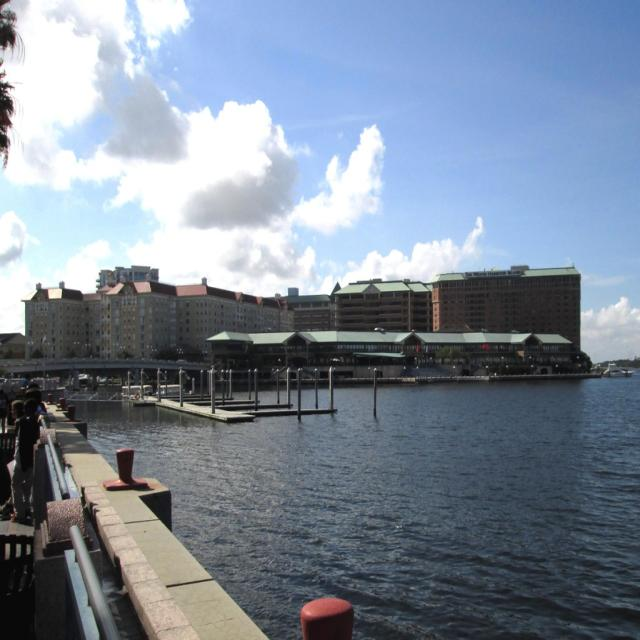Boat: (154, 383, 196, 399), (121, 383, 152, 398), (604, 364, 634, 376), (133, 398, 157, 407)
